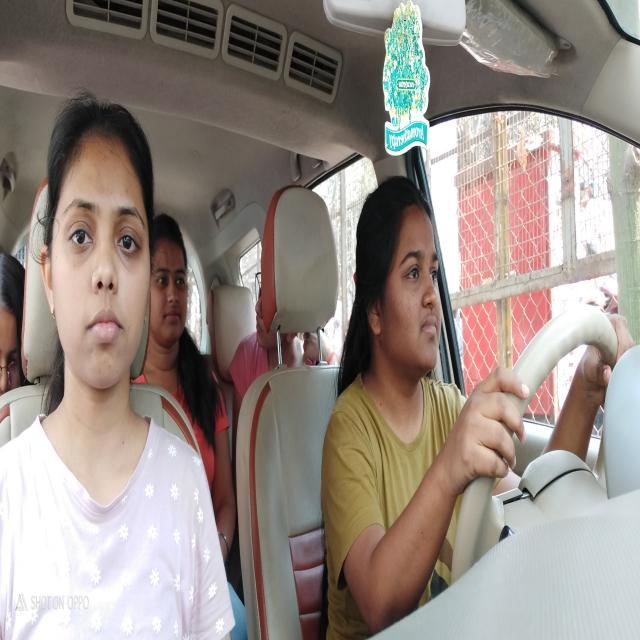person: (42, 99, 156, 375), (357, 168, 441, 376), (150, 197, 192, 354), (0, 241, 29, 412), (251, 263, 271, 353)
